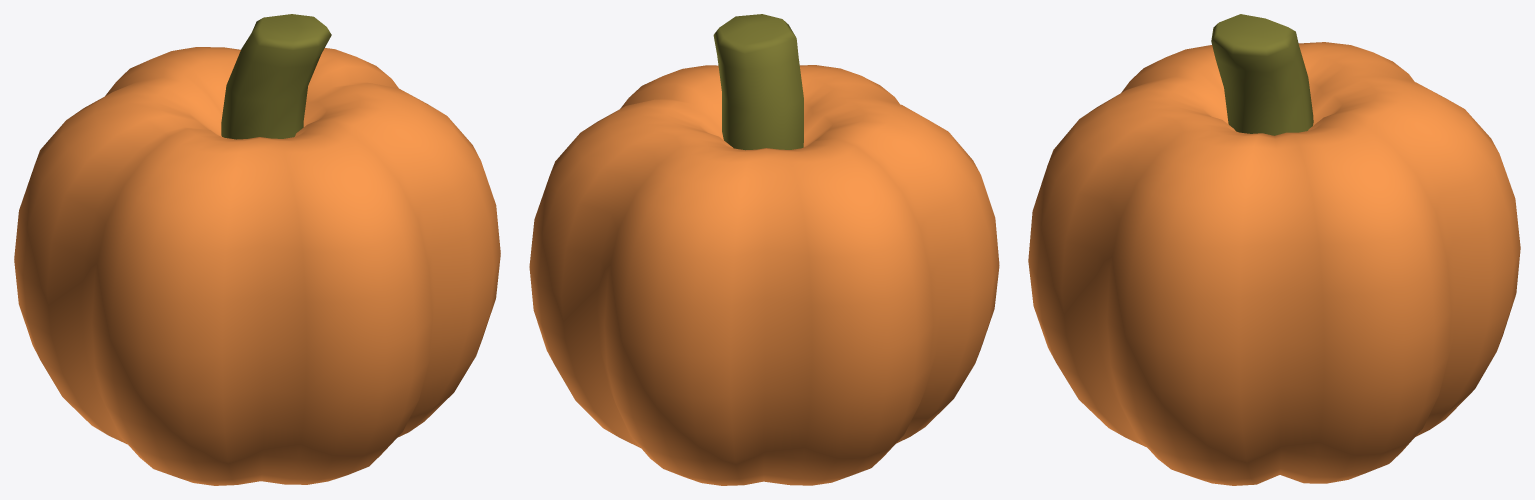
The model's file is Pumpkin_2.glb.
3 renders of one model, left to right at view 1: azimuth 30°, elevation 25°; view 2: azimuth 150°, elevation 25°; view 3: azimuth 270°, elevation 25°, orthographic. The views are drawn at different scales.
Parts seen in each view (by area): view 1: Pumpkin_2; view 2: Pumpkin_2; view 3: Pumpkin_2.
Part boxes in pixels (bbox=[...]): Pumpkin_2: bbox=[14, 14, 500, 485]; Pumpkin_2: bbox=[529, 14, 999, 485]; Pumpkin_2: bbox=[1028, 14, 1520, 485].
Bounding box in the file's own units: 0.1767 × 0.1803 × 0.1897.
1 material, 1 textured.
